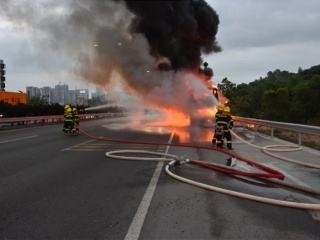fire: (143, 75, 226, 143)
